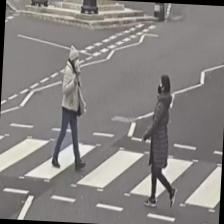person: (136, 72, 182, 206), (51, 44, 91, 167)
